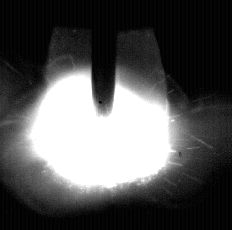arame: (92, 0, 117, 117)
poca: (31, 0, 170, 230)
